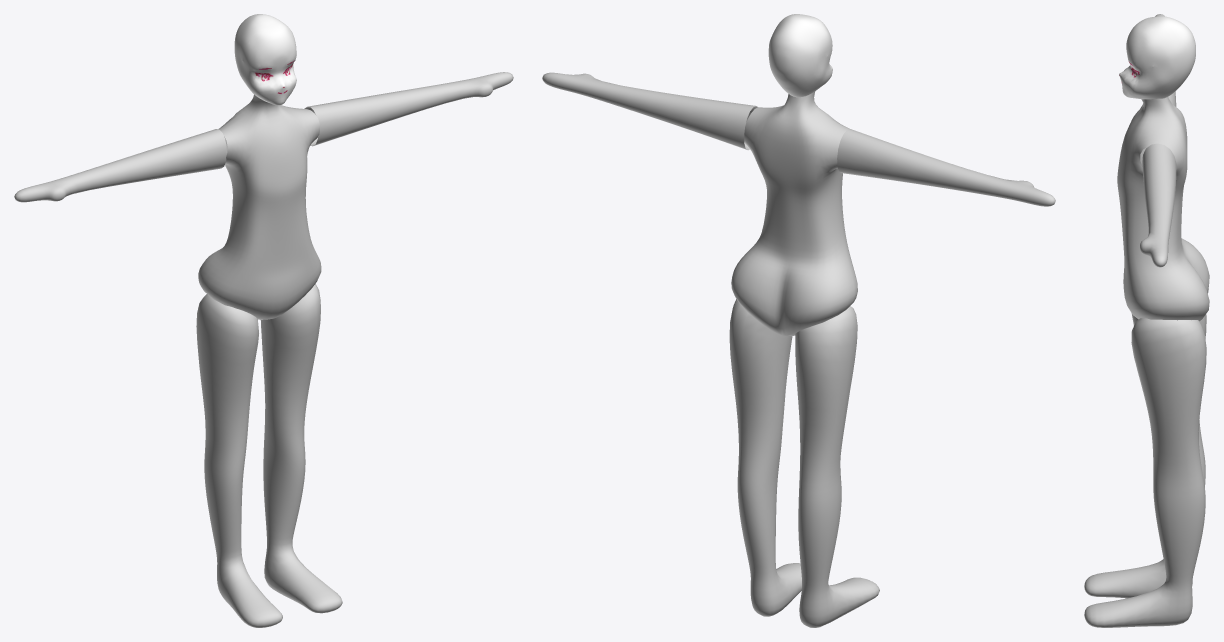
The model's file is haruna.fbx.
The picture shows the model from 3 angles, left to right: view 1: azimuth 30°, elevation 25°; view 2: azimuth 150°, elevation 25°; view 3: azimuth 270°, elevation 25°; orthographic projection. The views are drawn at different scales.
Parts seen in each view (by area): view 1: Cube.002, Cube.001, Cube.003, Sphere; view 2: Cube.002, Cube.001, Cube.003, Sphere; view 3: Cube.002, Cube.001, Sphere, Cube.003.
Boxes of the visible parts, <box> form: Cube.002: <box>196,284,342,627</box>; Cube.001: <box>198,94,321,319</box>; Cube.003: <box>14,72,513,202</box>; Sphere: <box>234,14,296,105</box>; Cube.002: <box>729,299,879,627</box>; Cube.001: <box>731,91,857,336</box>; Cube.003: <box>542,72,1055,206</box>; Sphere: <box>768,14,832,97</box>; Cube.002: <box>1084,313,1206,627</box>; Cube.001: <box>1117,97,1209,321</box>; Sphere: <box>1119,16,1195,99</box>; Cube.003: <box>1140,14,1176,267</box>.
Bounding box in the file's own units: 142 × 158 × 30.27.
Materials: 1 (1 with a texture image).
